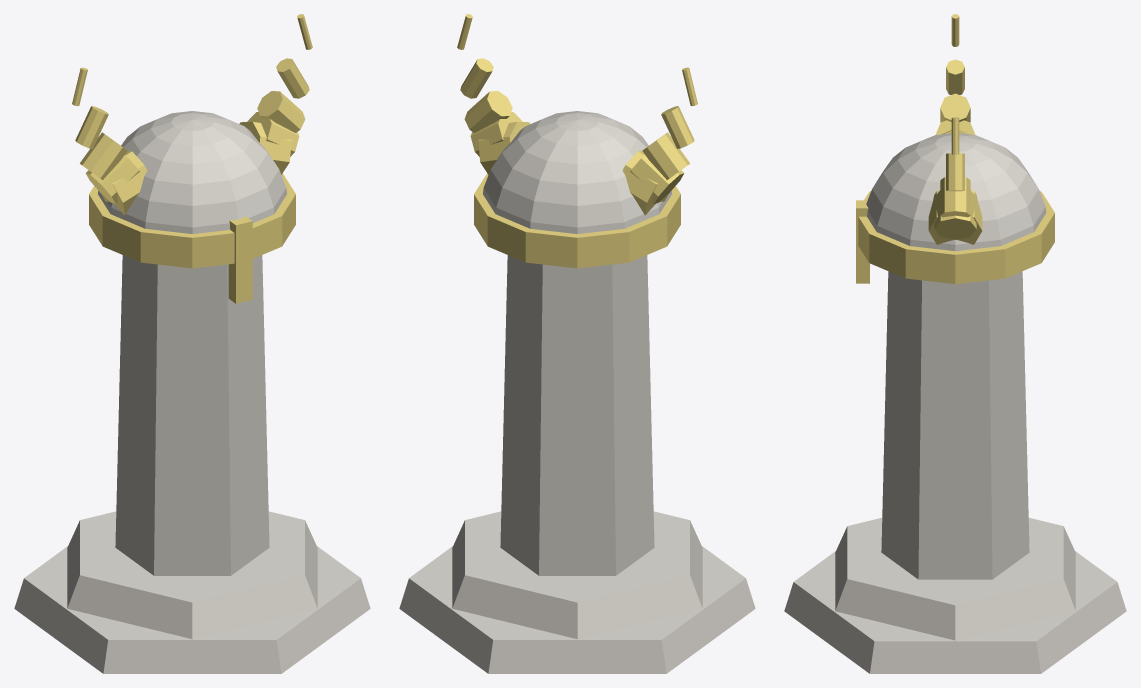
Rendered from Islandia_Rey.fbx.
The picture shows the model from 3 angles, left to right: view 1: azimuth 30°, elevation 25°; view 2: azimuth 150°, elevation 25°; view 3: azimuth 270°, elevation 25°; orthographic projection. The views are drawn at different scales.
Visible parts, largest first — view 1: Islandia_Rey; view 2: Islandia_Rey; view 3: Islandia_Rey.
Boxes of the visible parts, bbox=[...] form: Islandia_Rey: bbox=[14, 14, 370, 673]; Islandia_Rey: bbox=[399, 14, 755, 673]; Islandia_Rey: bbox=[784, 14, 1126, 673].
Bounding box in the file's own units: 0.6409 × 1.3 × 0.74.
